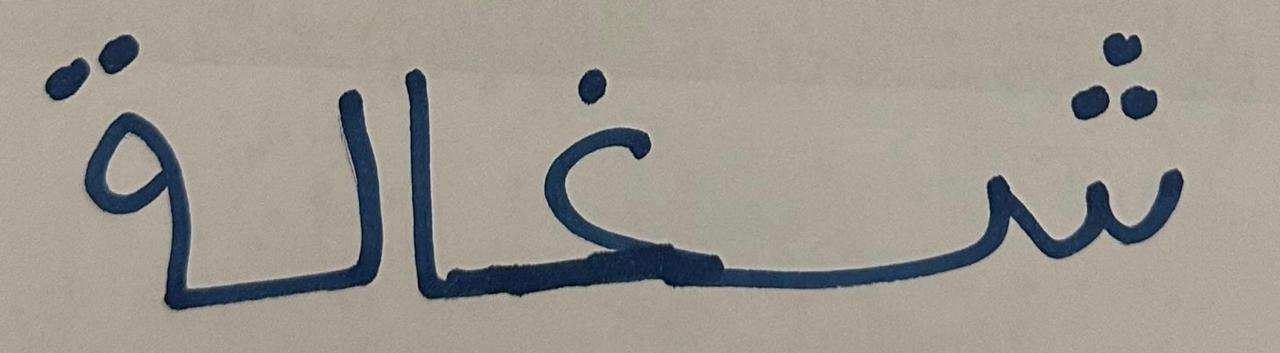alef: (387, 27, 492, 329)
ghain: (496, 32, 874, 323)
meem: (258, 42, 384, 326)
tah: (879, 3, 1218, 333)
thal: (27, 17, 255, 325)
